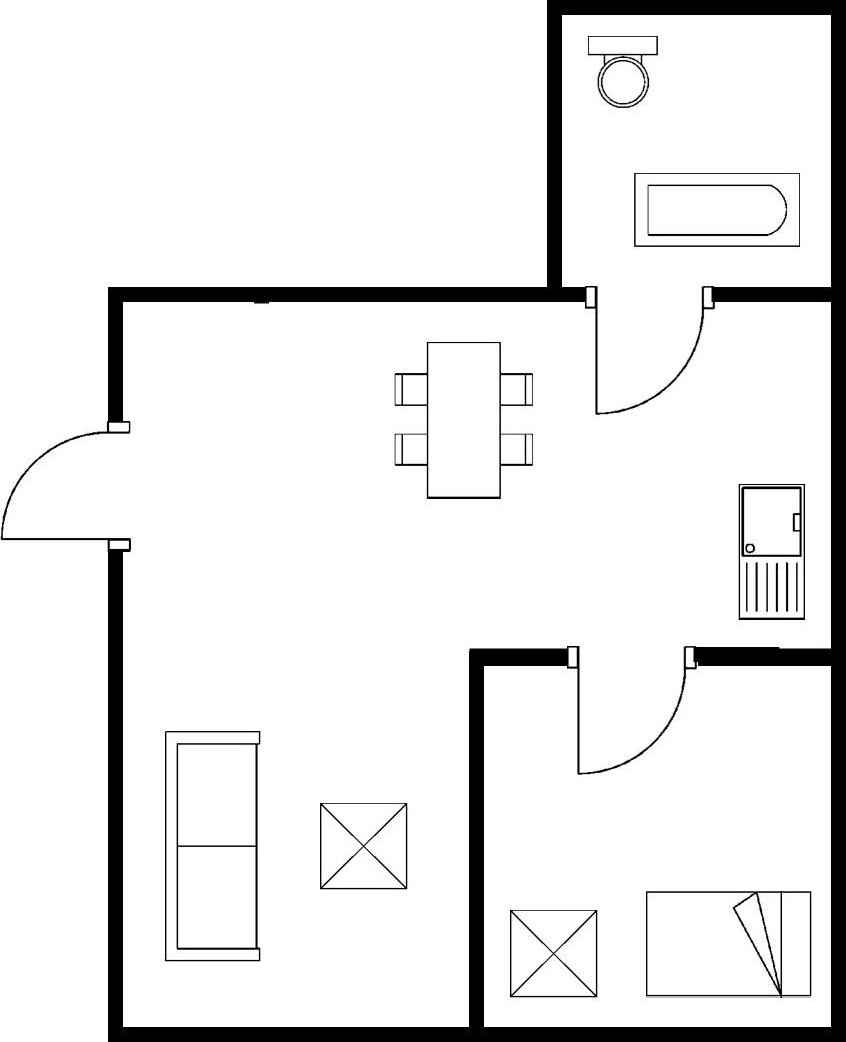bed: (639, 885, 817, 1003)
coffee_table: (506, 903, 605, 1005), (315, 798, 414, 894)
dining_table: (389, 337, 541, 506)
large_sink: (582, 30, 663, 113)
large_sofa: (158, 727, 269, 970)
sink: (729, 479, 812, 625)
tub: (628, 167, 807, 254)
